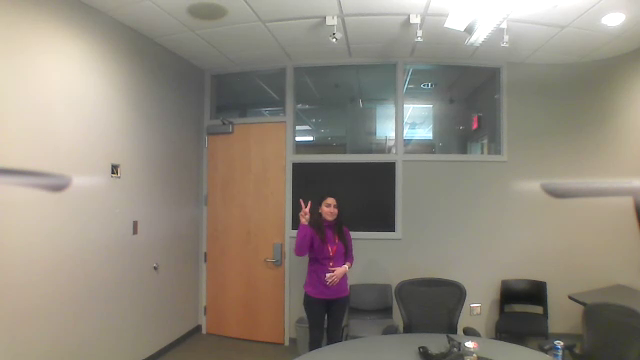peace: (294, 195, 315, 223)
